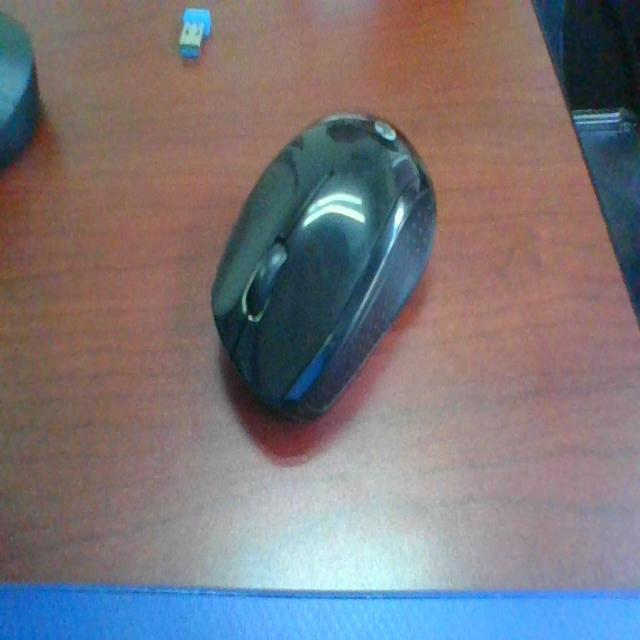mouse: (197, 105, 475, 449)
